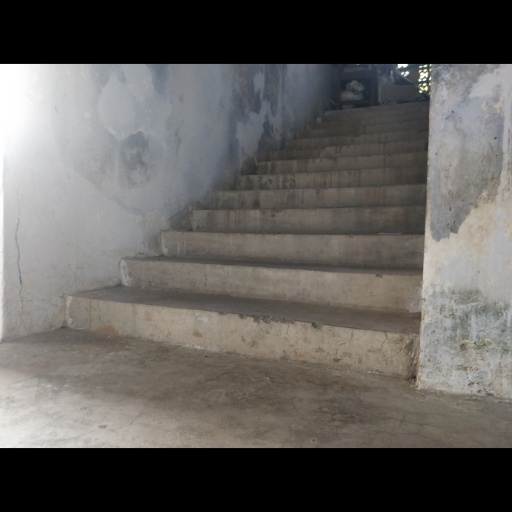Stairs: (66, 104, 427, 377)
